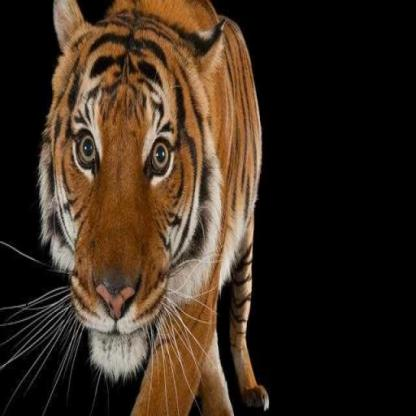Tiger: (40, 0, 274, 415)
